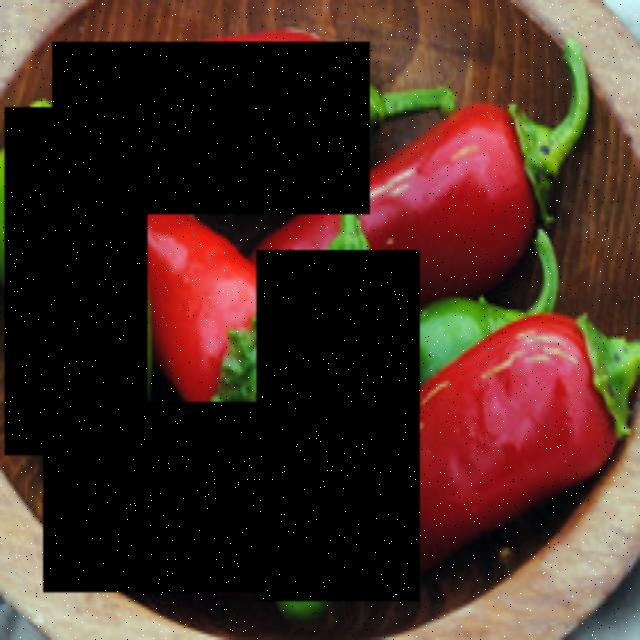Chili_Pepper: (257, 253, 420, 604), (54, 44, 372, 217), (6, 110, 150, 458), (45, 402, 274, 594)
